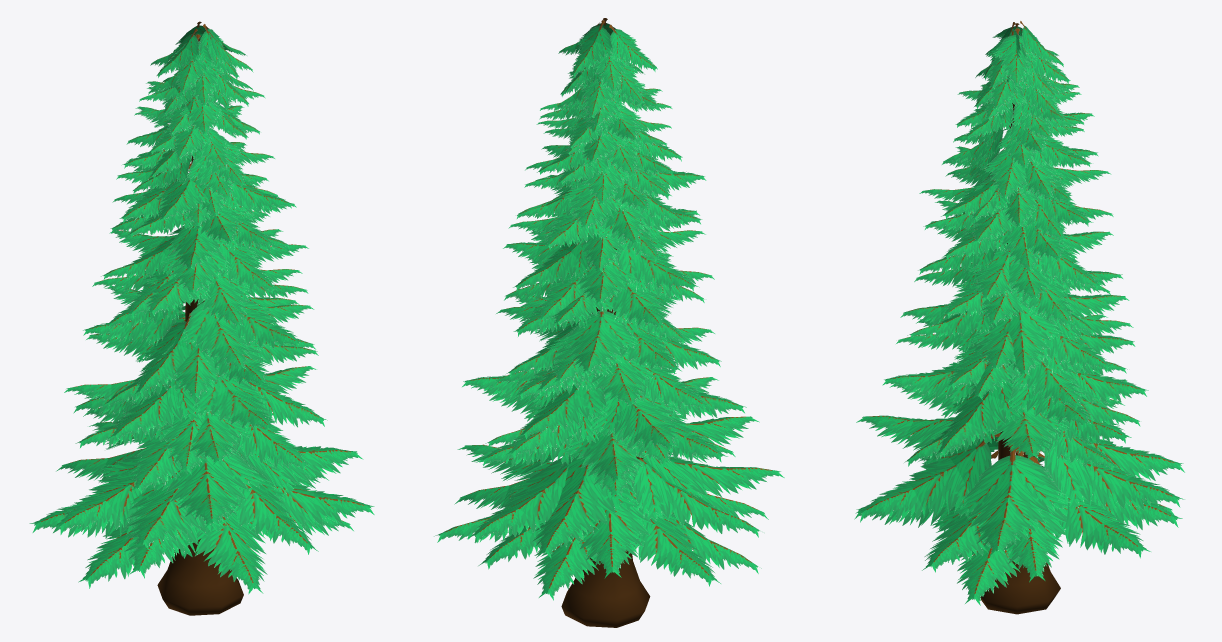
File: PineTreeShortLessLeaves.fbx
The picture shows the model from 3 angles, left to right: view 1: azimuth 30°, elevation 25°; view 2: azimuth 150°, elevation 25°; view 3: azimuth 270°, elevation 25°; orthographic projection. The views are drawn at different scales.
Parts seen in each view (by area): view 1: PineTreev3; view 2: PineTreev3; view 3: PineTreev3.
Part boxes in pixels (bbox=[...]): PineTreev3: bbox=[29, 21, 374, 615]; PineTreev3: bbox=[434, 18, 784, 627]; PineTreev3: bbox=[854, 21, 1184, 614].
Size of the model in its own units: 200 by 348 by 206.
